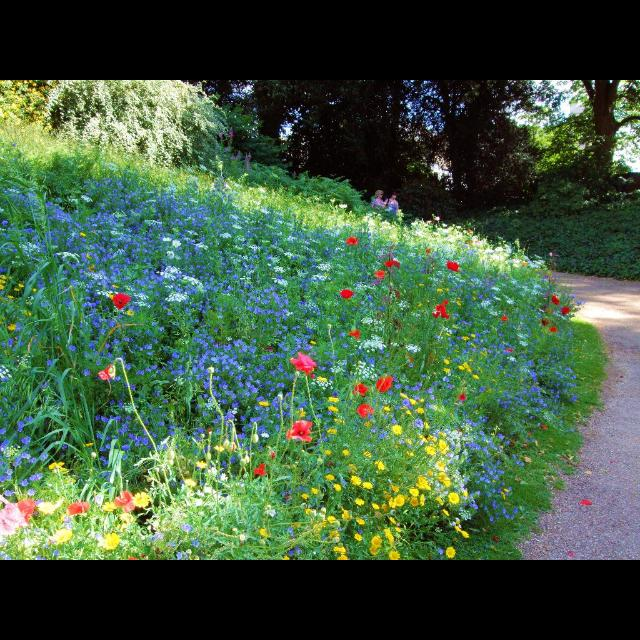Flower: (1, 174, 332, 468), (286, 392, 469, 560), (1, 496, 34, 542), (282, 420, 312, 440), (112, 490, 134, 514), (290, 353, 314, 375), (52, 525, 72, 549), (68, 498, 88, 516), (38, 499, 62, 511), (100, 535, 118, 551), (133, 492, 151, 508), (376, 376, 392, 392), (432, 303, 448, 319), (97, 366, 111, 384), (109, 294, 127, 308), (358, 402, 372, 418), (341, 287, 355, 301), (355, 382, 369, 396), (446, 260, 459, 272), (100, 501, 112, 513), (348, 330, 360, 342), (375, 267, 385, 281), (344, 238, 356, 245), (384, 262, 398, 266)
